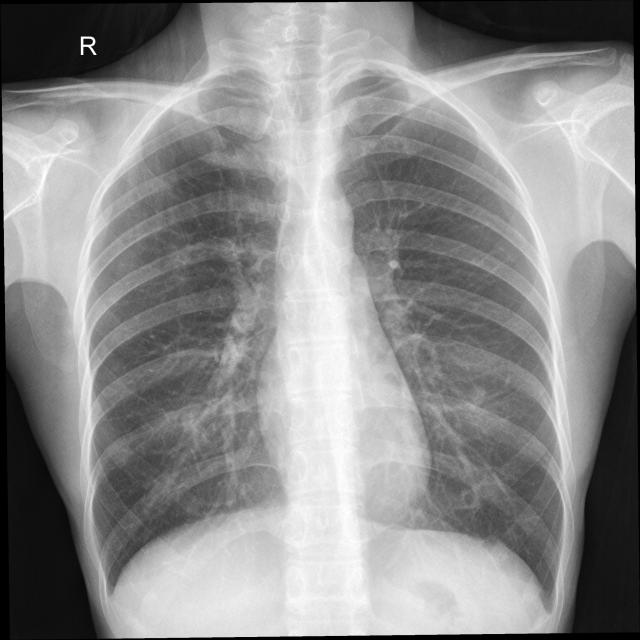low-pneumonia: (341, 75, 565, 595), (83, 70, 288, 589)
